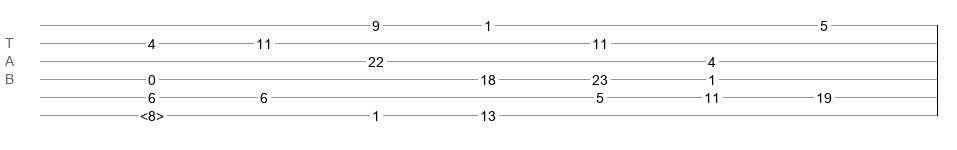0: (148, 72, 156, 82)
1: (372, 108, 380, 118), (484, 18, 492, 28), (708, 72, 716, 82)
11: (256, 36, 272, 46), (592, 36, 608, 46), (704, 90, 720, 100)
13: (480, 108, 496, 118)
18: (480, 72, 496, 82)
19: (816, 90, 832, 100)
22: (368, 54, 384, 64)
23: (592, 72, 608, 82)
4: (148, 36, 156, 46), (708, 54, 716, 64)
5: (596, 90, 604, 100), (820, 18, 828, 28)
6: (148, 90, 156, 100), (260, 90, 268, 100)
9: (372, 18, 380, 28)
harmonic: (140, 108, 164, 118)
